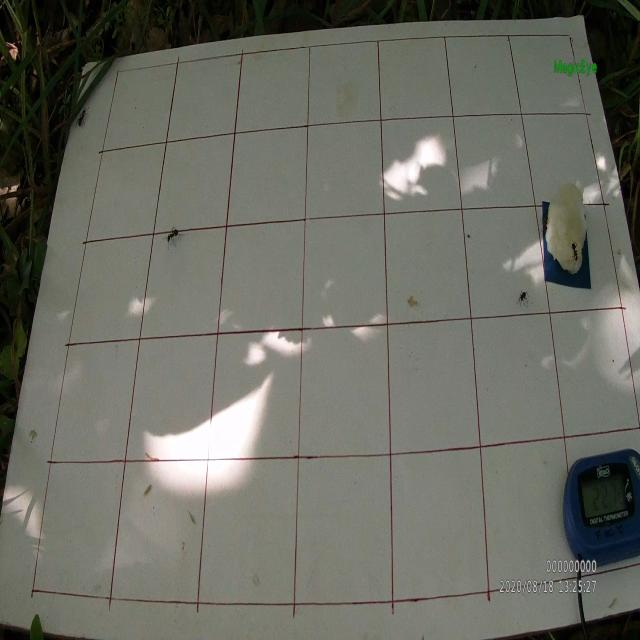Ant: (162, 226, 179, 250), (74, 105, 90, 129), (567, 238, 580, 266), (516, 290, 529, 306), (543, 213, 549, 233)
